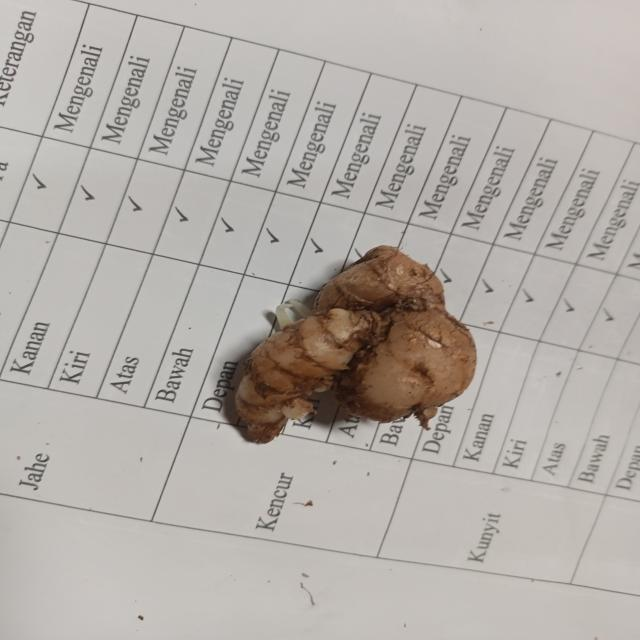ginger: (231, 240, 474, 422)
